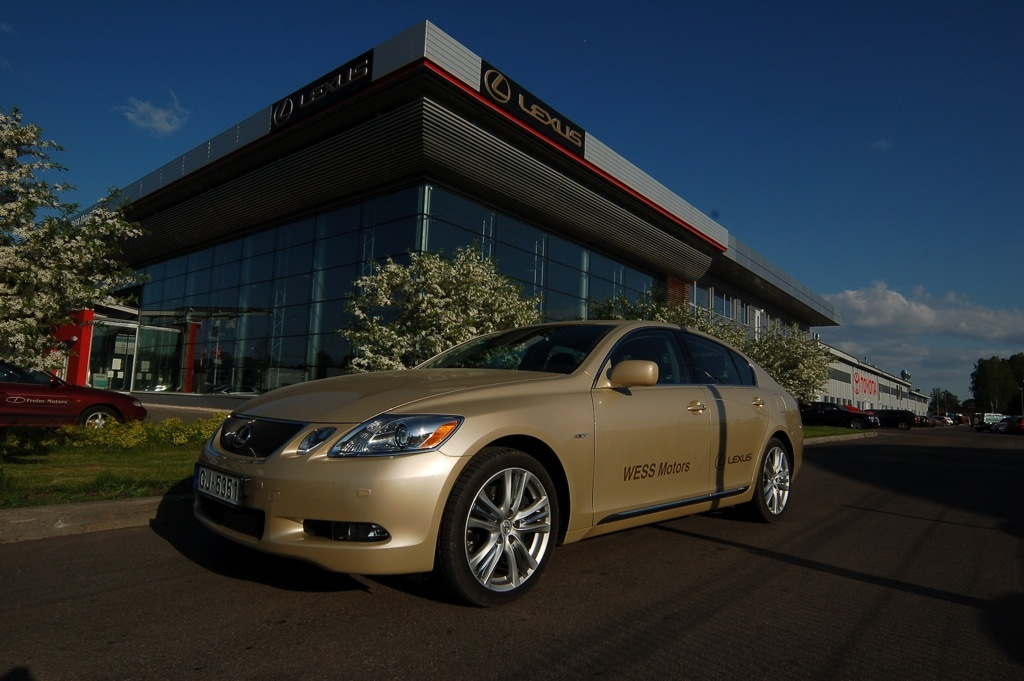Car: (190, 319, 807, 594), (801, 403, 883, 429), (874, 408, 908, 424)
